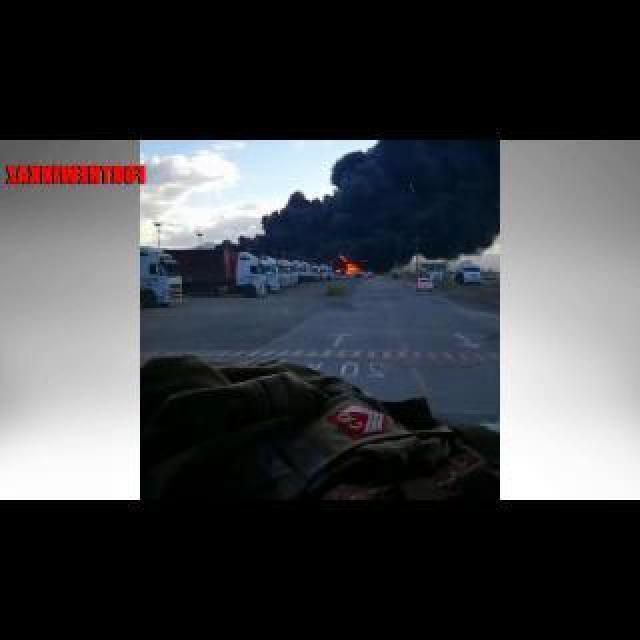Fire: (336, 258, 360, 276)
Smoke: (250, 142, 496, 258)
